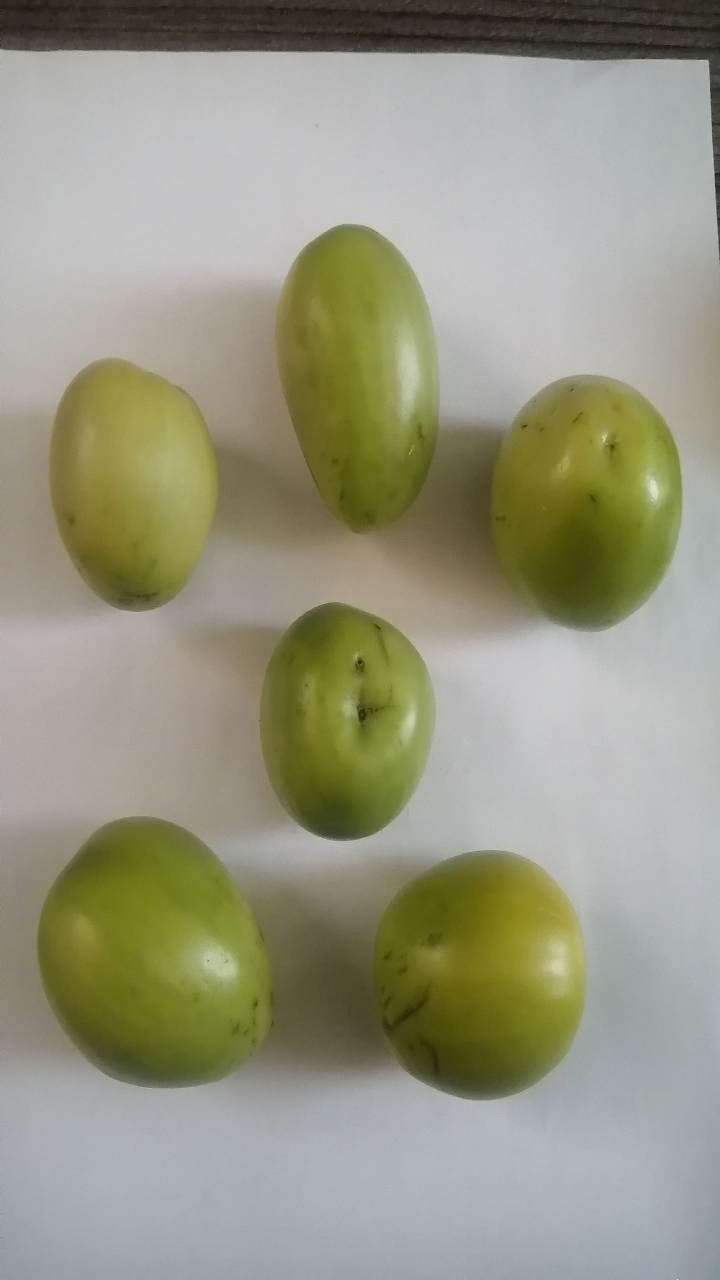tomateVerde: (12, 802, 303, 1102), (360, 835, 598, 1132), (255, 200, 446, 557), (484, 360, 697, 659), (34, 343, 228, 634), (248, 588, 455, 854)
